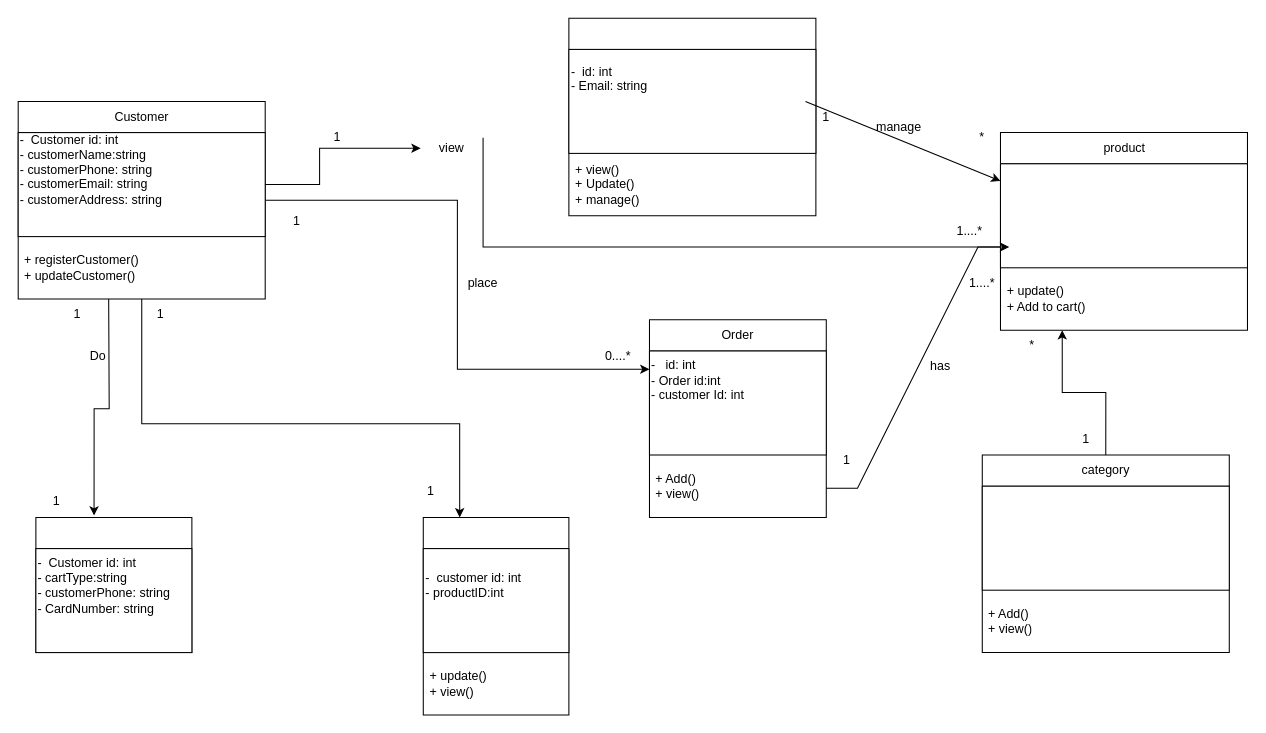
This 1266x733 diagram has some shape labels left out. The shapes that lost their labels are listed below. From the top down, each one's box as (x1, y1, x2, y2) in pixels, then its label:
(568, 17, 816, 216): Admin
(999, 163, 1247, 268): - id: int - pdt Name:string - Description: string
(981, 485, 1229, 590): - id: int - Name:string
(35, 516, 192, 653): Payment
(422, 516, 569, 715): cart
